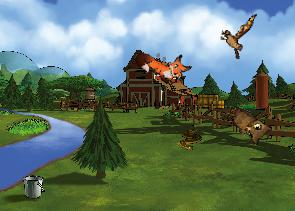eagle: (218, 11, 257, 60)
fox: (132, 34, 194, 92)
owl: (220, 104, 274, 148)
